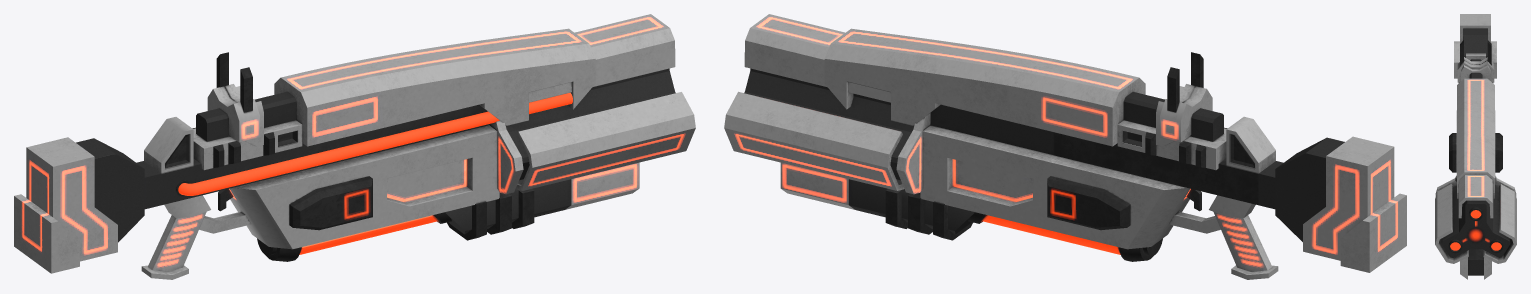
File: sci-fi gun.fbx
The picture shows the model from 3 angles, left to right: view 1: azimuth 30°, elevation 25°; view 2: azimuth 150°, elevation 25°; view 3: azimuth 270°, elevation 25°; orthographic projection. The views are drawn at different scales.
Parts seen in each view (by area): view 1: defaultMaterial; view 2: defaultMaterial; view 3: defaultMaterial.
Boxes of the visible parts, x1,y1,x2,y2 form: defaultMaterial: (14,14,695,279); defaultMaterial: (724,14,1406,279); defaultMaterial: (1435,14,1516,279).
Size of the model in its own units: 99.58 by 34.24 by 19.29.
1 material, 1 textured.
